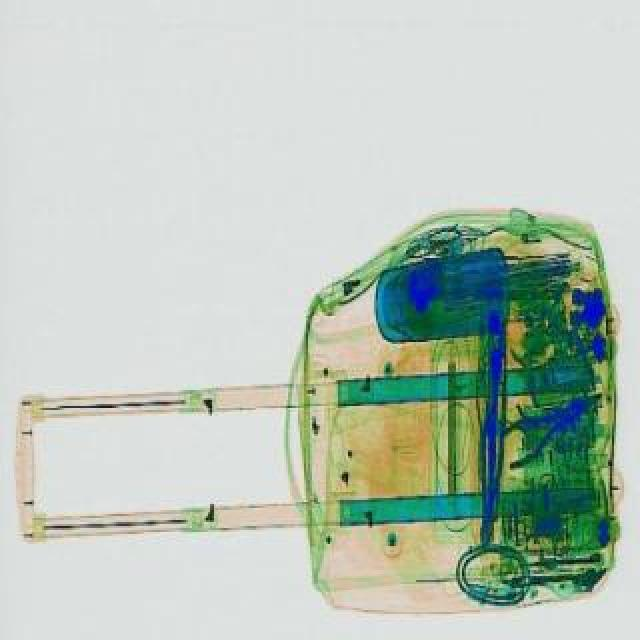wrench: (490, 376, 616, 470)
